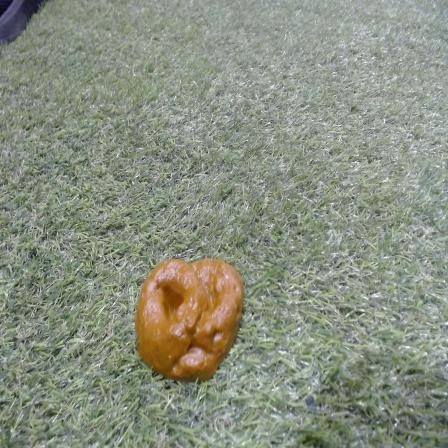dog-poop: (131, 249, 247, 382)
